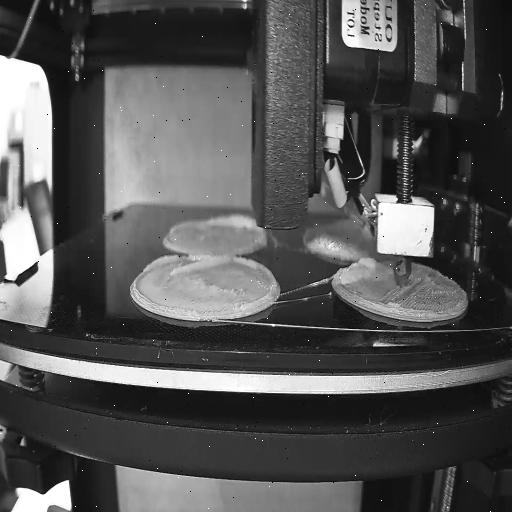over_extrusion: (141, 256, 229, 280), (235, 256, 277, 306), (212, 214, 267, 242), (356, 259, 390, 275)
